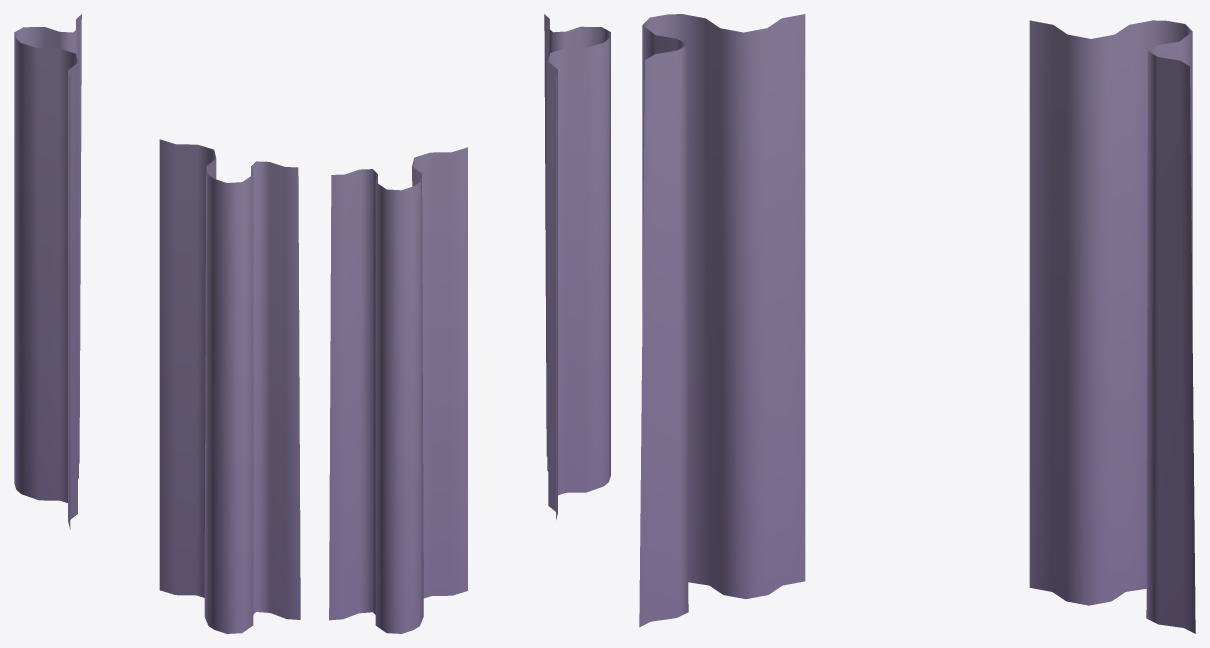
The model's file is (%no-merge) (%drape) 1.glb.
3 renders of one model, left to right at view 1: azimuth 30°, elevation 25°; view 2: azimuth 150°, elevation 25°; view 3: azimuth 270°, elevation 25°, orthographic. The views are drawn at different scales.
Parts seen in each view (by area): view 1: (%no-merge) (%drape) 1(Clone); view 2: (%no-merge) (%drape) 1(Clone); view 3: (%no-merge) (%drape) 1(Clone).
Part boxes in pixels (box(x1,y1,x2,y2)): (%no-merge) (%drape) 1(Clone): box(14, 14, 300, 633); (%no-merge) (%drape) 1(Clone): box(329, 14, 610, 633); (%no-merge) (%drape) 1(Clone): box(639, 14, 1195, 633).
Bounding box in the file's own units: 0.1747 × 1.01 × 0.8886.
